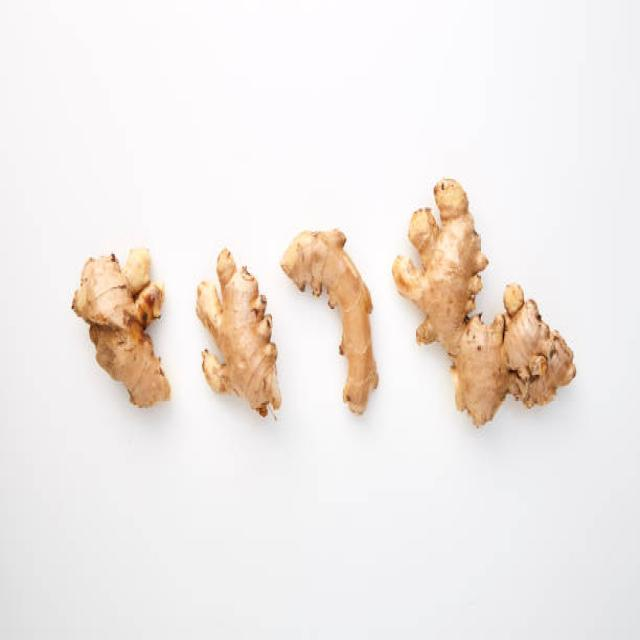ginger-root: (387, 165, 590, 462), (57, 218, 185, 434), (194, 230, 279, 457)
